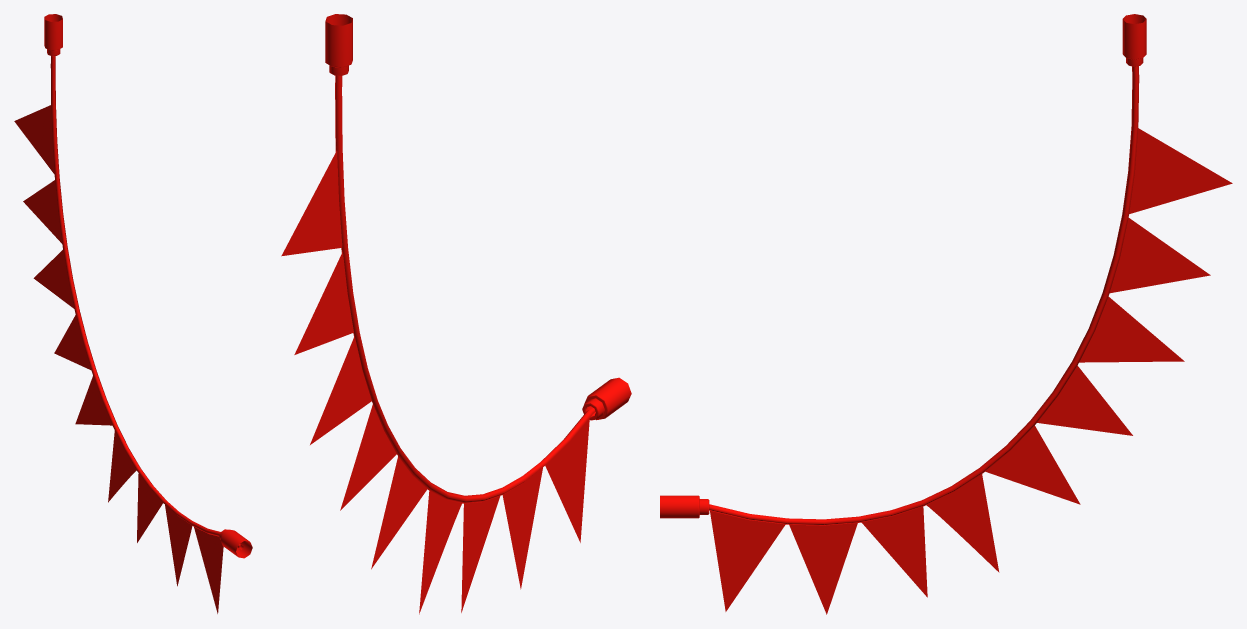
Rendered from HalloweenRoomA_HookedFlagB.fbx.
3 views of the same model, side by side, from view 1: azimuth 30°, elevation 25°; view 2: azimuth 150°, elevation 25°; view 3: azimuth 270°, elevation 25° (orthographic). The views are drawn at different scales.
Visible parts, largest first — view 1: HalloweenRoomA_HookedFlagB; view 2: HalloweenRoomA_HookedFlagB; view 3: HalloweenRoomA_HookedFlagB.
Part boxes in pixels (<box>): HalloweenRoomA_HookedFlagB: <box>14,14,252,613</box>; HalloweenRoomA_HookedFlagB: <box>281,14,631,614</box>; HalloweenRoomA_HookedFlagB: <box>660,14,1232,614</box>.
Bounding box in the file's own units: 5.28 × 143 × 125.
